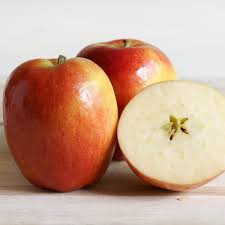apple: (2, 59, 120, 191), (81, 40, 181, 123)
damaged_apple: (118, 84, 225, 193)
